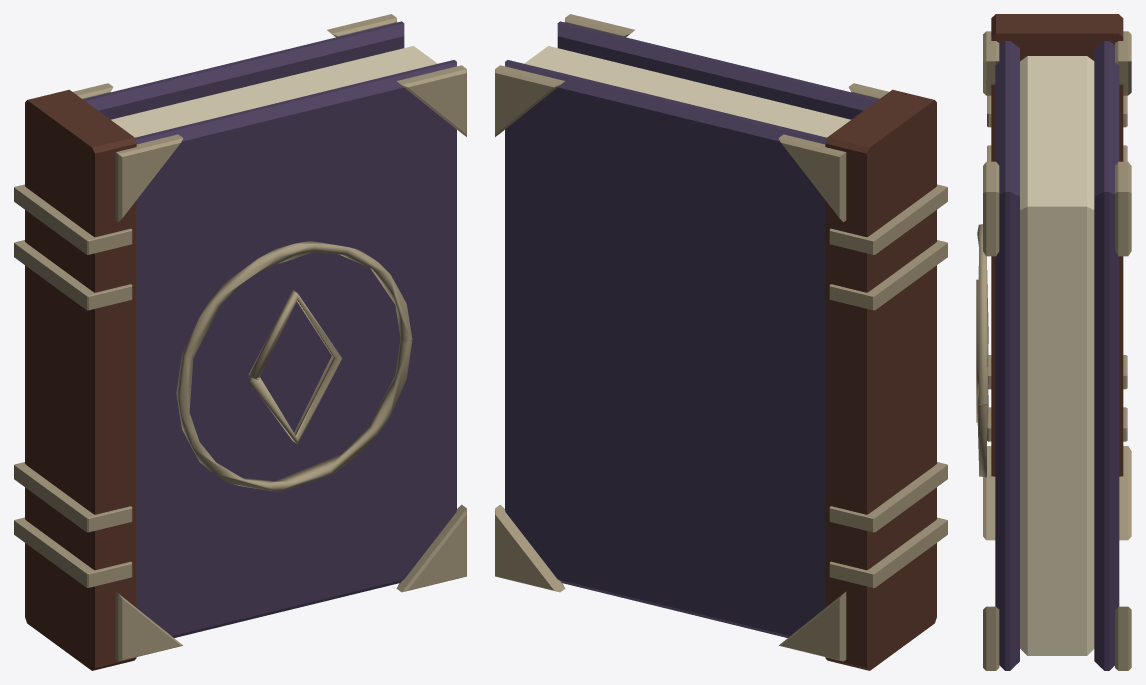
The model's file is spell-tome-standard-low.glb.
3 views of the same model, side by side, from view 1: azimuth 30°, elevation 25°; view 2: azimuth 150°, elevation 25°; view 3: azimuth 270°, elevation 25° (orthographic). The views are drawn at different scales.
Parts seen in each view (by area): view 1: spell-tome__standard; view 2: spell-tome__standard; view 3: spell-tome__standard.
Boxes of the visible parts, <box> form: spell-tome__standard: <box>14,14,466,670</box>; spell-tome__standard: <box>495,14,947,670</box>; spell-tome__standard: <box>976,14,1131,670</box>.
Size of the model in its own units: 0.25 by 0.33 by 0.094.
